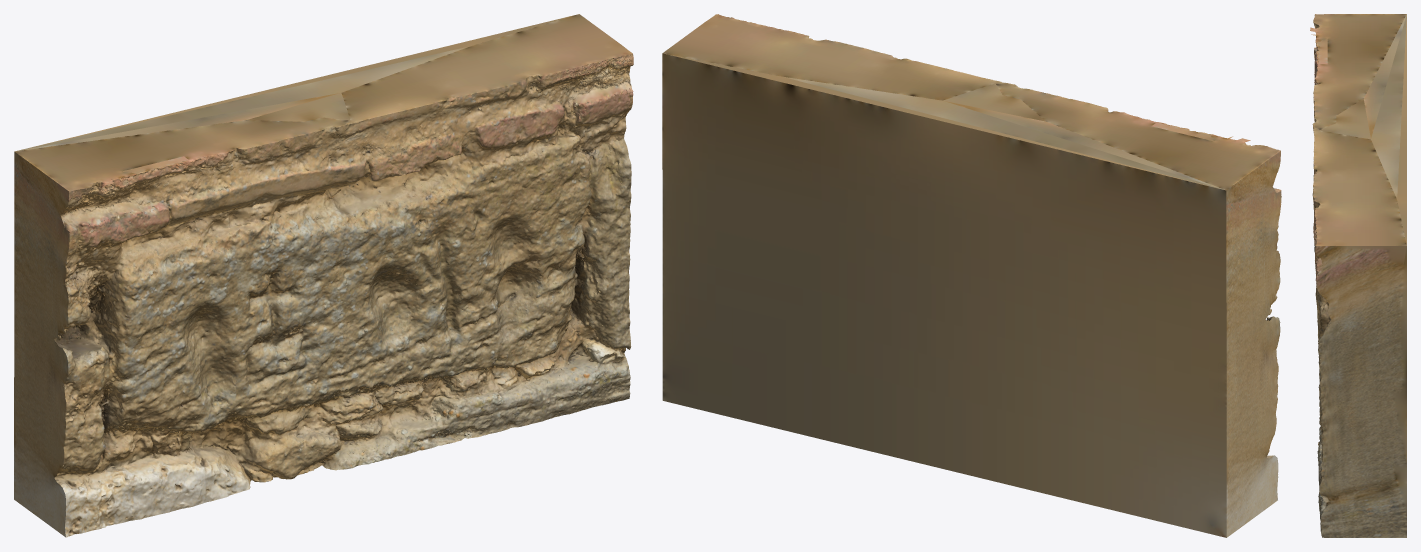
3 views of the same model, side by side, from view 1: azimuth 30°, elevation 25°; view 2: azimuth 150°, elevation 25°; view 3: azimuth 270°, elevation 25° (orthographic). The views are drawn at different scales.
Visible parts, largest first — view 1: Object_2, Object_3, Object_4, Object_5, Object_6, Object_8, Object_7; view 2: Object_8, Object_3, Object_2, Object_4, Object_5; view 3: Object_8, Object_5, Object_3, Object_4, Object_2, Object_6, Object_7.
Boxes of the visible parts, box(x1,y1,x2,y2) form: Object_2: box(14, 83, 632, 525); Object_3: box(61, 14, 632, 536); Object_4: box(14, 57, 632, 534); Object_5: box(14, 54, 633, 537); Object_6: box(56, 55, 633, 537); Object_8: box(14, 14, 633, 534); Object_7: box(54, 55, 633, 533); Object_8: box(662, 24, 1277, 537); Object_3: box(663, 14, 1274, 455); Object_2: box(1226, 151, 1281, 472); Object_4: box(995, 83, 1280, 455); Object_5: box(761, 25, 1280, 537); Object_8: box(1313, 14, 1406, 537); Object_5: box(1310, 25, 1406, 537); Object_3: box(1312, 46, 1406, 503); Object_4: box(1313, 14, 1406, 446); Object_2: box(1313, 56, 1330, 532); Object_6: box(1313, 23, 1330, 525); Object_7: box(1313, 25, 1334, 511).
Bounding box in the file's own units: 39.58 × 23.32 × 6.99.
1 material, 1 textured.
